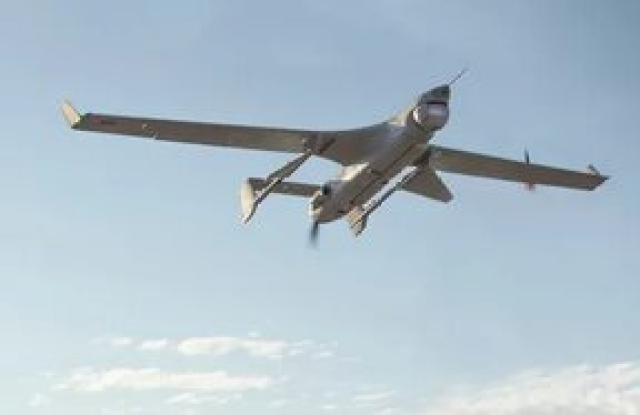military drone: (60, 68, 611, 237)
